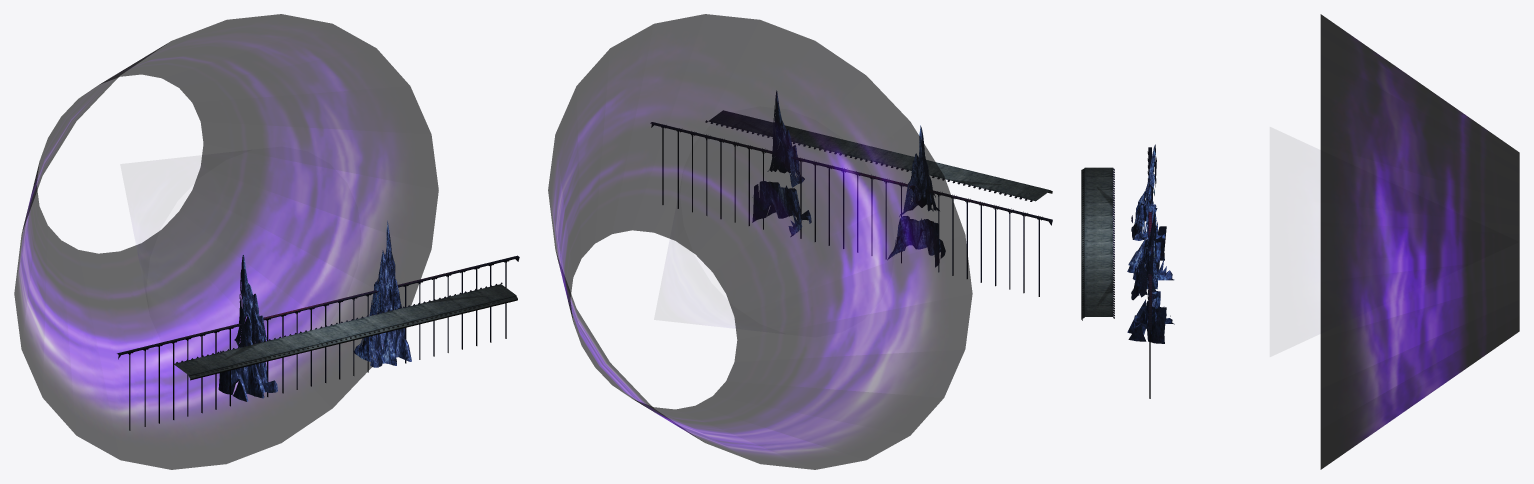
Rendered from UMK3iOSBluePortal.glb.
3 views of the same model, side by side, from view 1: azimuth 30°, elevation 25°; view 2: azimuth 150°, elevation 25°; view 3: azimuth 270°, elevation 25° (orthographic). The views are drawn at different scales.
Parts seen in each view (by area): view 1: 1_Cone002, 1_scislac_rock, 0_sci_floor; view 2: 1_Cone002, 1_scislac_rock, 0_sci_floor; view 3: 1_Cone002, 0_sci_floor, 1_scislac_rock.
Part boxes in pixels (x1,y1,x2,y2): 1_Cone002: [14, 14, 438, 469]; 1_scislac_rock: [117, 220, 519, 430]; 0_sci_floor: [173, 284, 517, 380]; 1_Cone002: [548, 14, 972, 469]; 1_scislac_rock: [650, 91, 1052, 296]; 0_sci_floor: [708, 110, 1052, 201]; 1_Cone002: [1320, 14, 1519, 469]; 0_sci_floor: [1081, 167, 1113, 320]; 1_scislac_rock: [1127, 144, 1174, 398].
Bounding box in the file's own units: 72.12 × 72.12 × 69.01.
5 materials, 5 textured.
